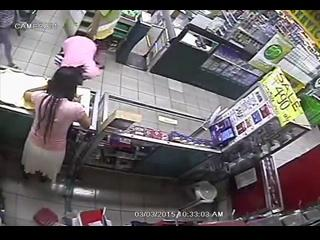Normal: (20, 66, 92, 188), (54, 28, 102, 80), (0, 11, 21, 70)
